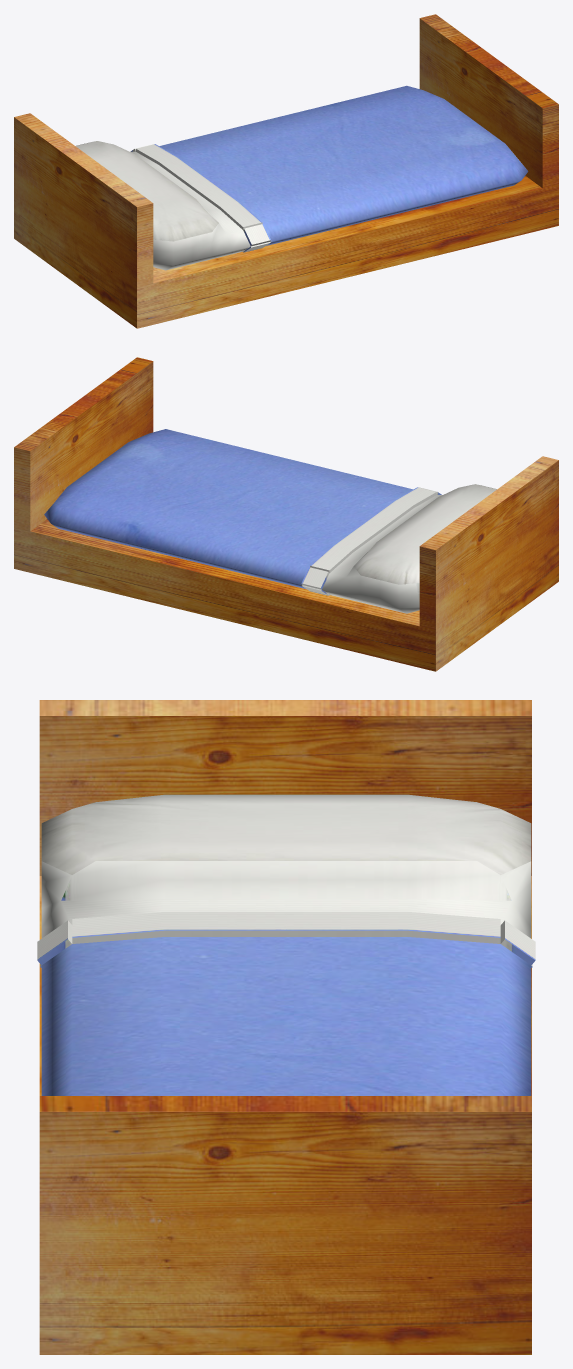
The model's file is bed.FBX.
The picture shows the model from 3 angles, top to bottom: view 1: azimuth 30°, elevation 25°; view 2: azimuth 150°, elevation 25°; view 3: azimuth 270°, elevation 25°; orthographic projection. The views are drawn at different scales.
Parts seen in each view (by area): view 1: Box002, Box003; view 2: Box002, Box003; view 3: Box002, Box003.
Part boxes in pixels (x1,y1,x2,y2): Box002: [14, 14, 558, 328]; Box003: [75, 85, 528, 270]; Box002: [14, 357, 558, 671]; Box003: [44, 429, 496, 613]; Box002: [39, 700, 531, 1354]; Box003: [37, 794, 535, 1095].
Size of the model in its own units: 60.24 by 16.58 by 30.8.
Materials: 2 (2 with a texture image).
